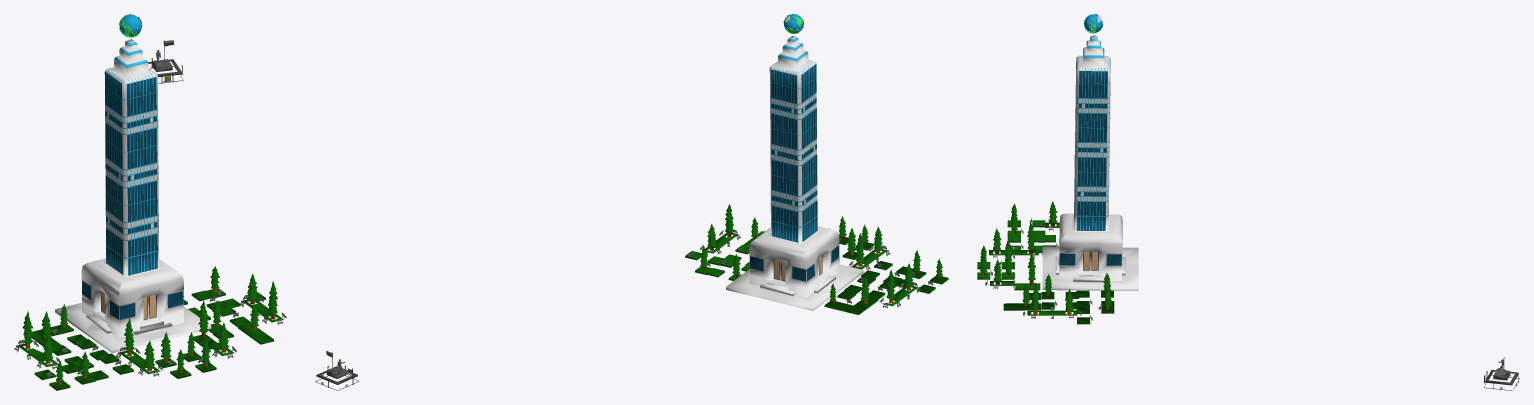
The model's file is topBranda.glb.
3 views of the same model, side by side, from view 1: azimuth 30°, elevation 25°; view 2: azimuth 150°, elevation 25°; view 3: azimuth 270°, elevation 25° (orthographic). The views are drawn at different scales.
Parts seen in each view (by area): view 1: new tower.003, new tower.009, new tower.015, Sphere.003, new tower.017, new tower.016; view 2: new tower.003, new tower.009, new tower.015; view 3: new tower.003, new tower.009, new tower.015.
Boxes of the visible parts, x1,y1,x2,y2 form: new tower.003: (55,38,211,352); new tower.009: (17,267,283,390); new tower.015: (14,40,286,376); Sphere.003: (119,14,142,37); new tower.017: (25,266,275,384); new tower.016: (14,59,286,377); new tower.003: (726,35,863,310); new tower.009: (685,204,948,314); new tower.015: (321,229,932,387); new tower.003: (1042,35,1138,290); new tower.009: (977,201,1114,324); new tower.015: (985,218,1518,389).
Bounding box in the file's own units: 1085 × 765 × 1454.
